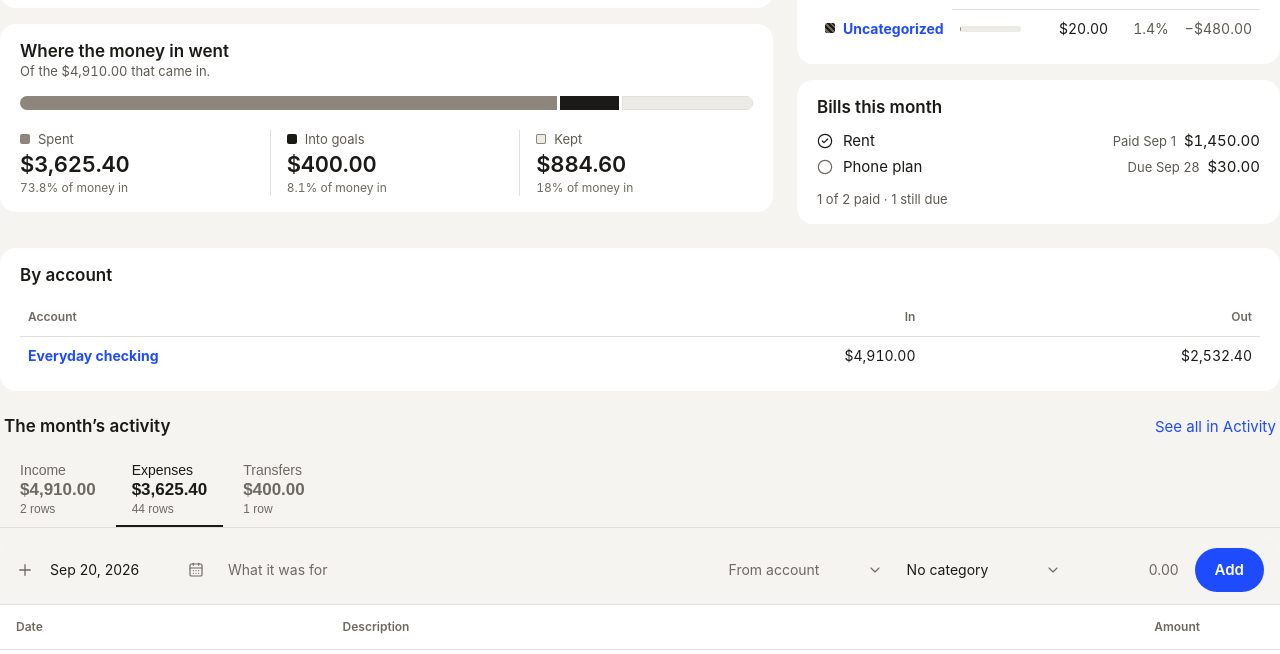
MonthPage › refuses a transfer that would move money to the same account
(page scrolled)
Click the tab "Transfers $400.00 1 row": (274, 490) [227,454,321,527]
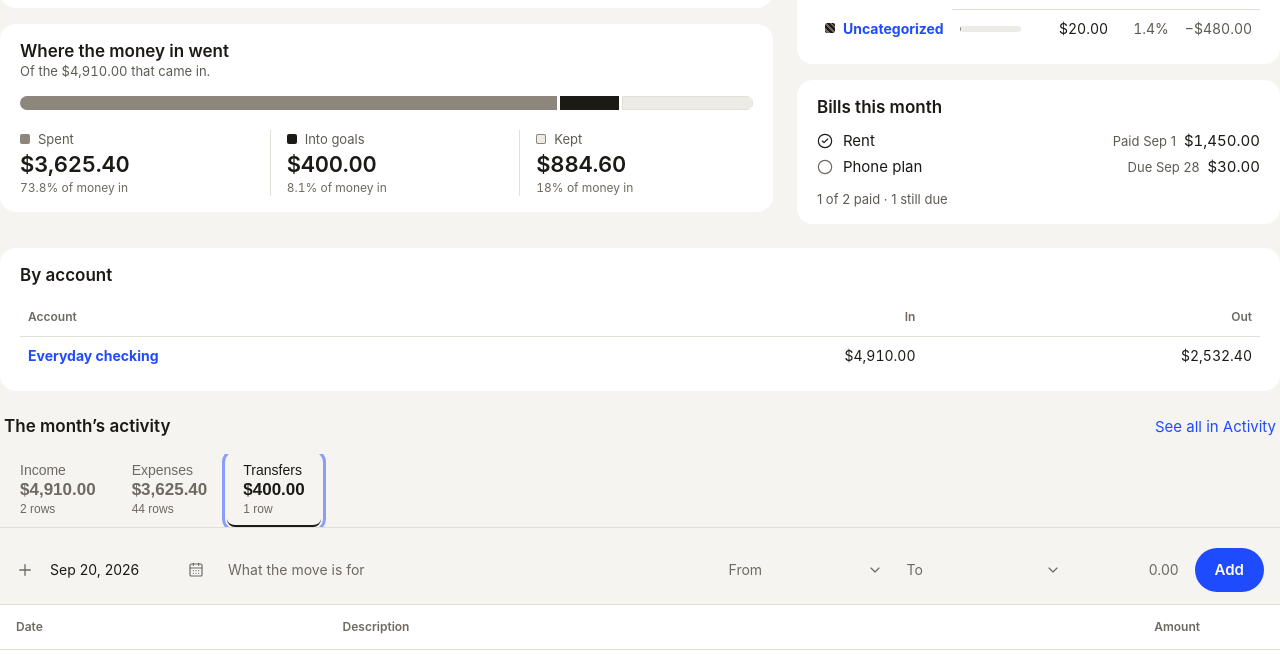
In the field named "Amount": (1132, 570) [1077,552,1187,588], type "400"
Click the button "From": (806, 570) [721,552,891,588]
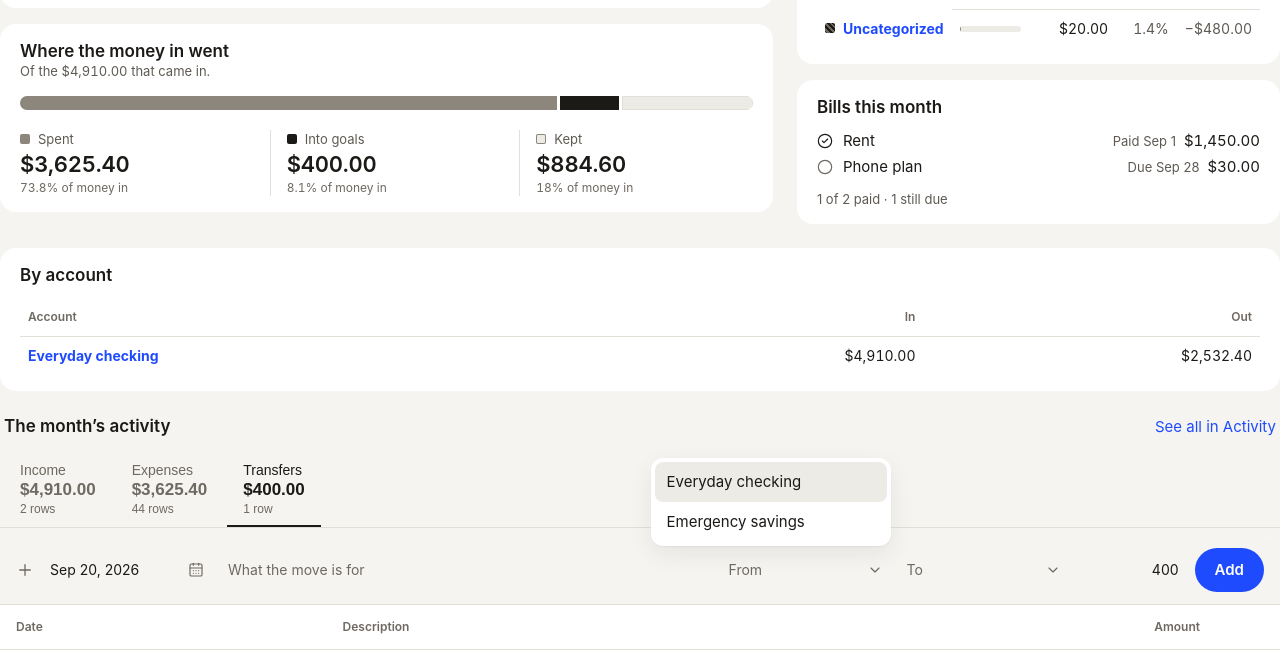
Click the option "Everyday checking": (771, 482) [655,462,887,502]
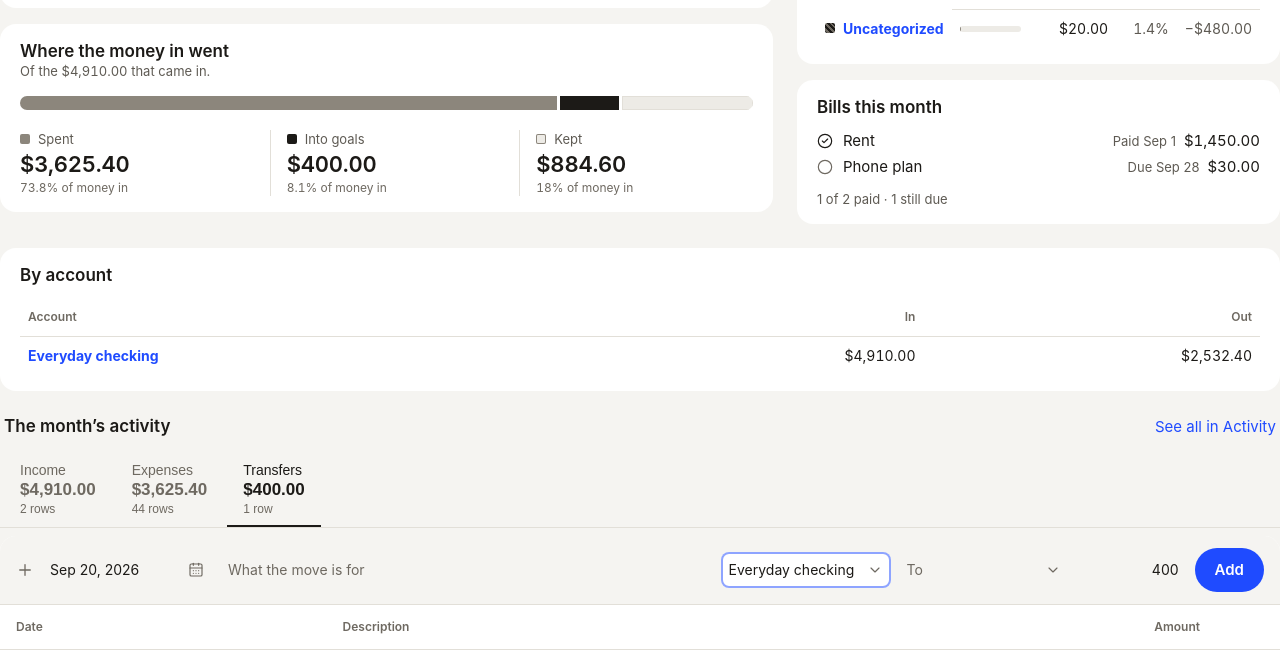
Click the button "To": (984, 570) [899,552,1069,588]
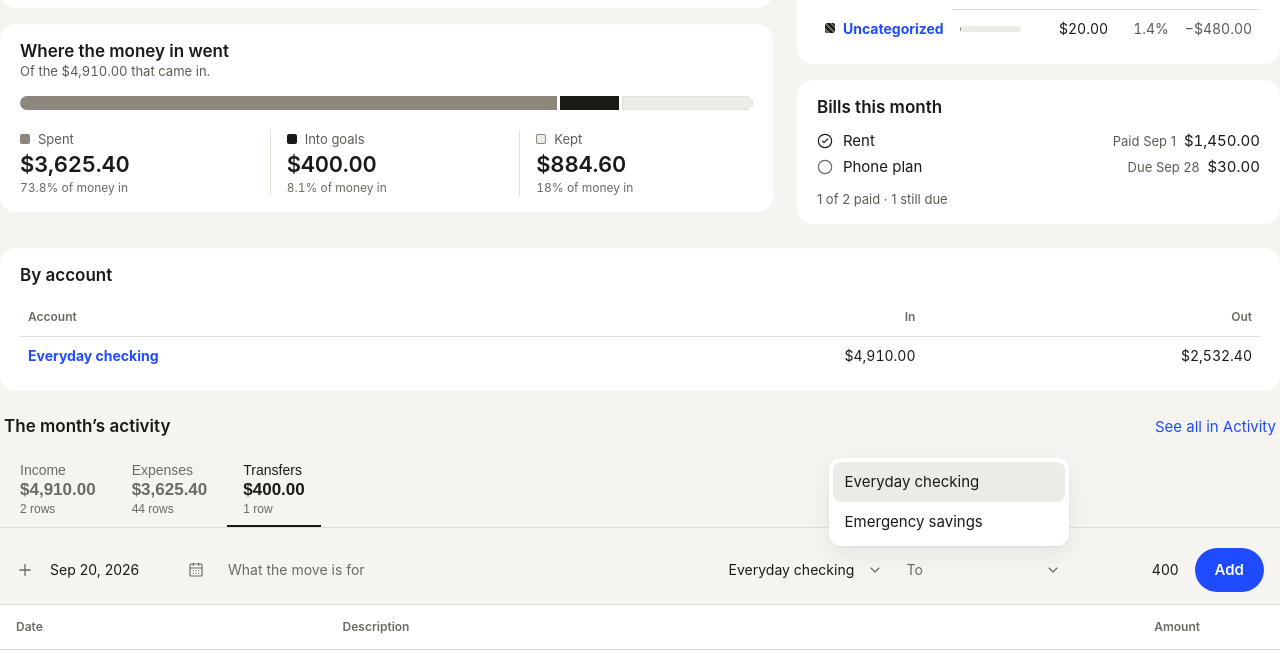
Click the option "Everyday checking": (949, 482) [833,462,1065,502]
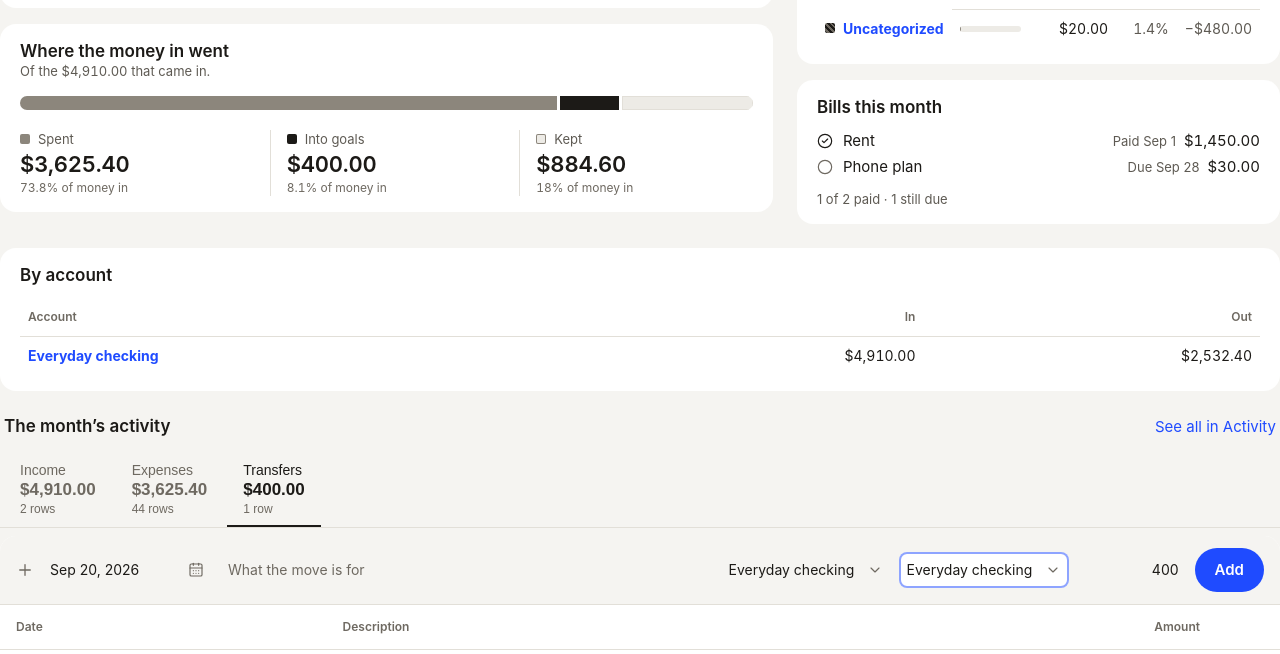
Click the button "Add": (1229, 570) [1195,548,1264,592]
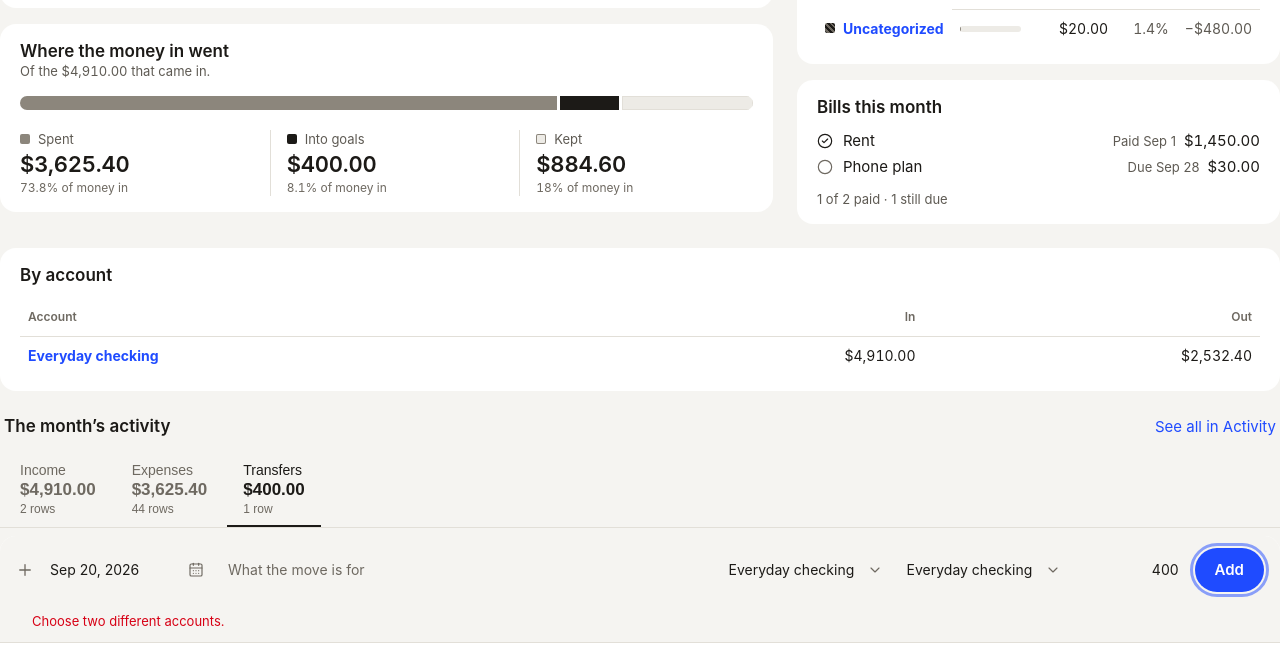
Now the text "Choose two different accounts." is shown, box [32,613,224,629]
